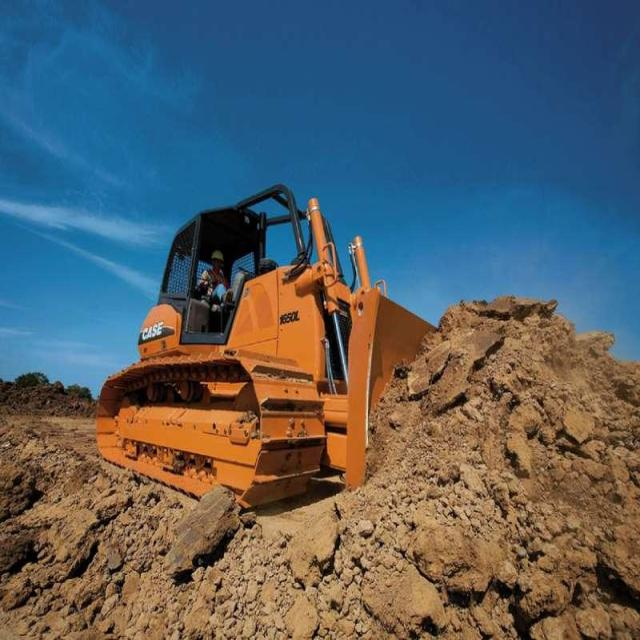buldozerpayloadergrader: (84, 153, 506, 522)
